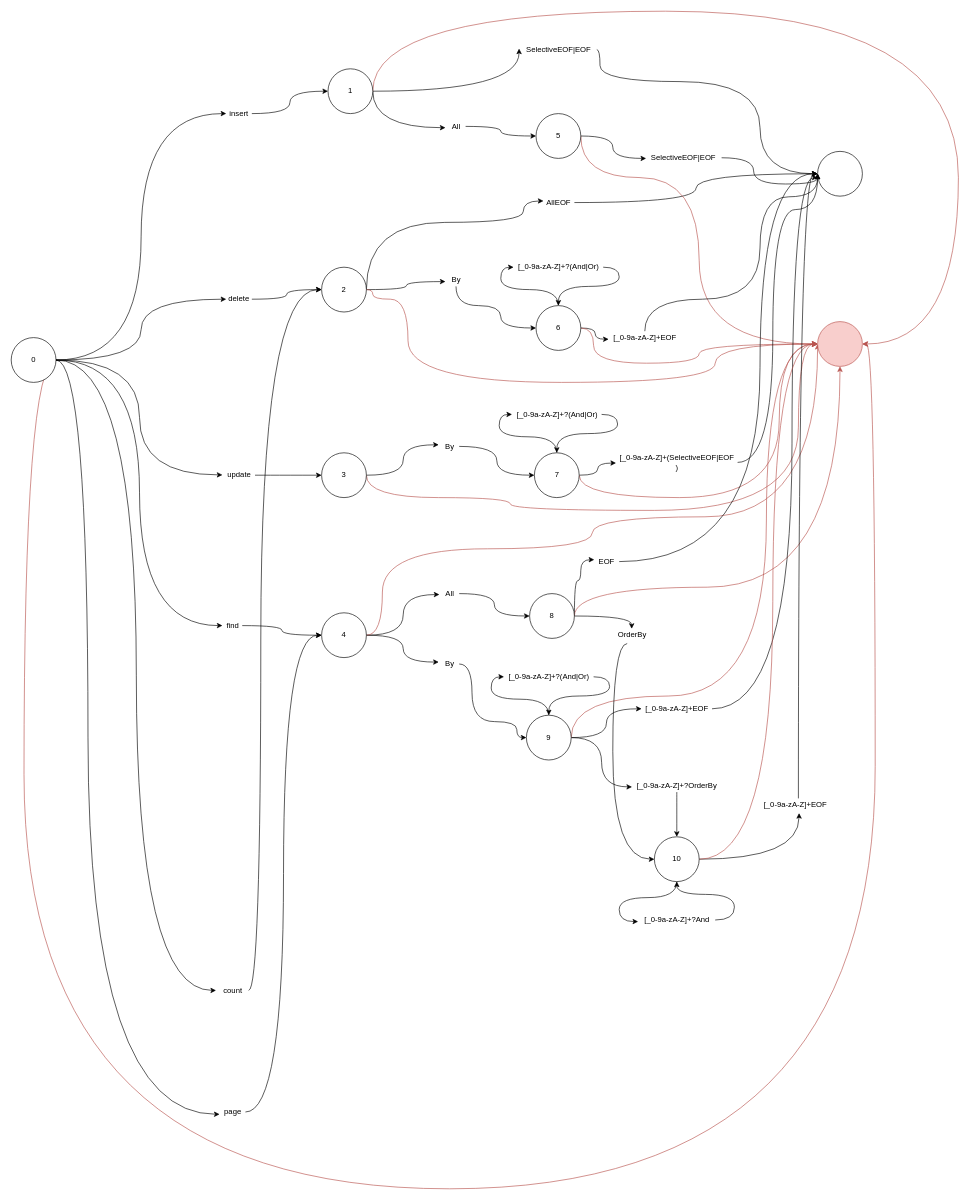
The diagram is 970 pixels wide and 1200 high, and some of its shapes have lost their labels. The shapes that lost their labels are listed below. From the top down, each one's box as (x1, y1, x2, y2) in pixels, then its label:
(817, 151, 862, 196): terminal
(817, 321, 862, 366): error
